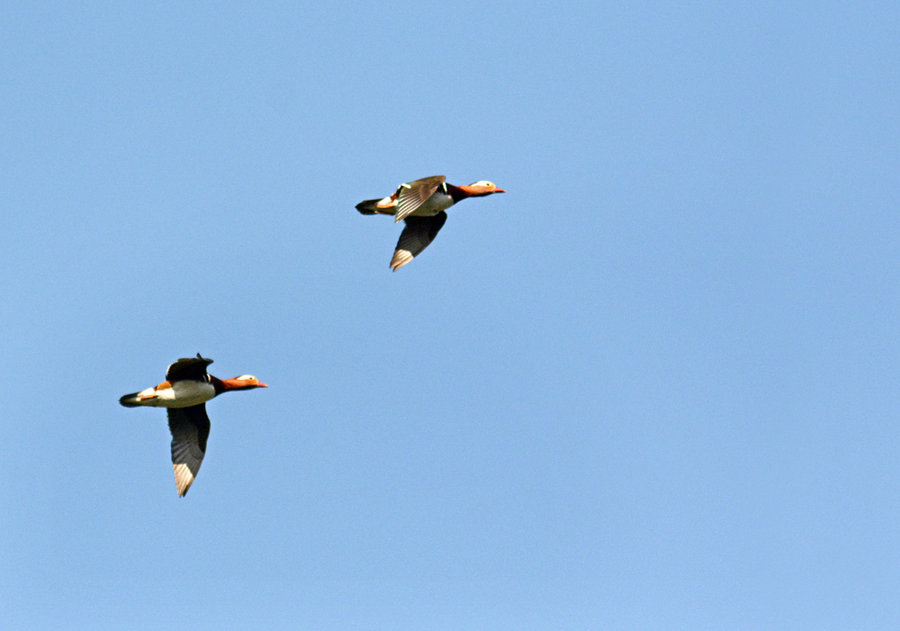bird: (118, 355, 267, 497), (339, 172, 506, 278)
